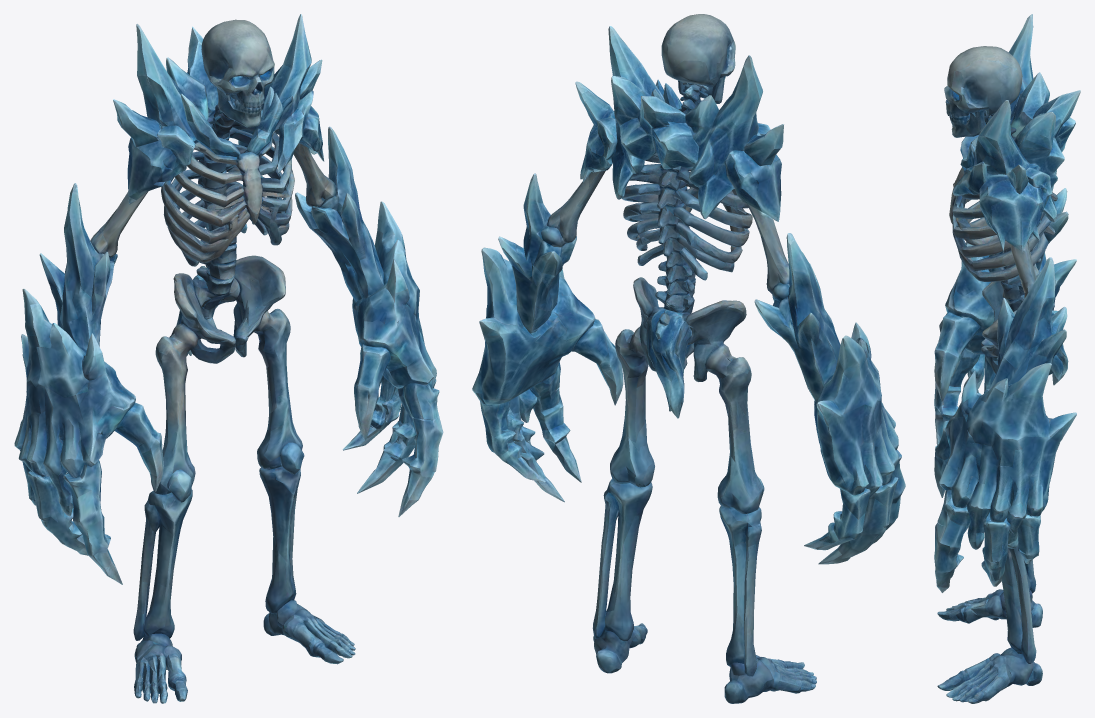
Rendered from rimebound_horror.glb.
The picture shows the model from 3 angles, left to right: view 1: azimuth 30°, elevation 25°; view 2: azimuth 150°, elevation 25°; view 3: azimuth 270°, elevation 25°; orthographic projection. The views are drawn at different scales.
Parts seen in each view (by area): view 1: Mesh_0; view 2: Mesh_0; view 3: Mesh_0.
Boxes of the visible parts, x1,y1,x2,y2 form: Mesh_0: (14,14,443,703); Mesh_0: (472,14,905,703); Mesh_0: (934,14,1080,703).
Bounding box in the file's own units: 1.24 × 1.9 × 0.4166.
Materials: 1 (1 with a texture image).
